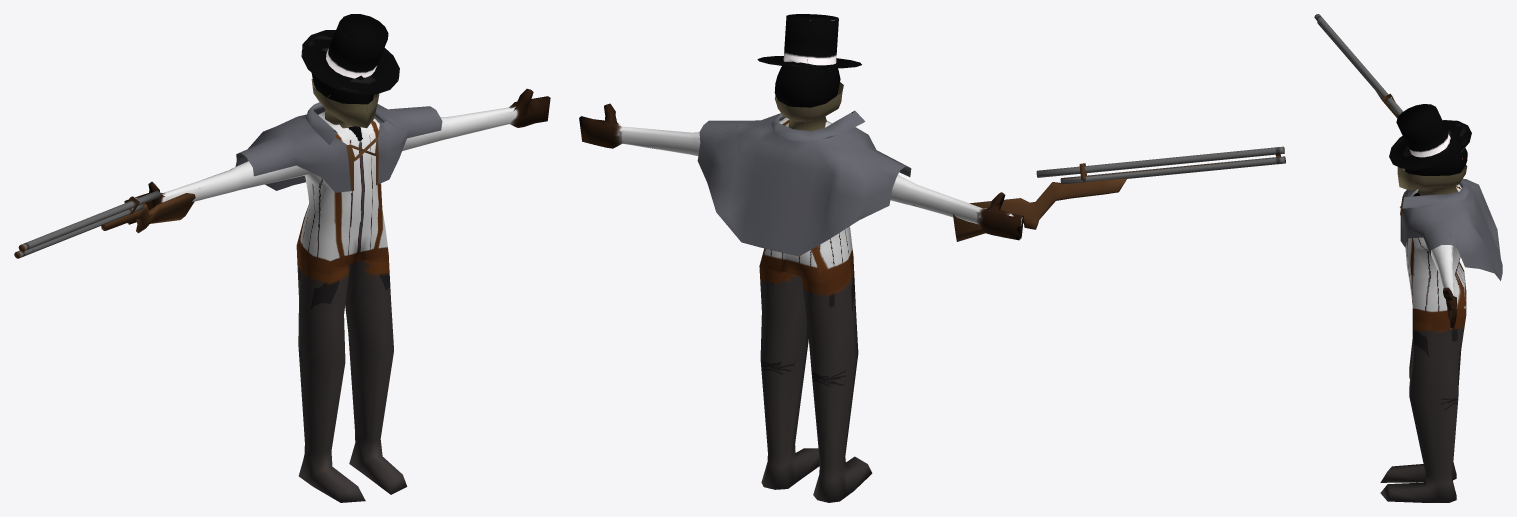
Rendered from Marksman.obj.
The picture shows the model from 3 angles, left to right: view 1: azimuth 30°, elevation 25°; view 2: azimuth 150°, elevation 25°; view 3: azimuth 270°, elevation 25°; orthographic projection. The views are drawn at different scales.
Parts seen in each view (by area): view 1: Body_Cube.007, Cloak_Cube.006, Hat_Cylinder.001, Rifle_Cube_Cube_Wood, Scarf_Cube.008; view 2: Body_Cube.007, Cloak_Cube.006, Rifle_Cube_Cube_Wood, Hat_Cylinder.001, Scarf_Cube.008; view 3: Body_Cube.007, Cloak_Cube.006, Hat_Cylinder.001, Scarf_Cube.008, Rifle_Cube_Cube_Wood.
Part boxes in pixels (box(x1,y1,x2,y2)): Body_Cube.007: box(124, 73, 550, 502); Cloak_Cube.006: box(235, 102, 442, 192); Hat_Cylinder.001: box(301, 14, 399, 94); Rifle_Cube_Cube_Wood: box(14, 191, 195, 258); Scarf_Cube.008: box(311, 79, 379, 128); Body_Cube.007: box(579, 61, 1023, 502); Cloak_Cube.006: box(697, 110, 911, 256); Rifle_Cube_Cube_Wood: box(953, 146, 1285, 241); Hat_Cylinder.001: box(757, 14, 861, 68); Scarf_Cube.008: box(775, 82, 843, 131); Body_Cube.007: box(1380, 134, 1467, 502); Cloak_Cube.006: box(1400, 179, 1502, 280); Hat_Cylinder.001: box(1389, 104, 1471, 169); Scarf_Cube.008: box(1397, 165, 1467, 195); Rifle_Cube_Cube_Wood: box(1314, 14, 1403, 117).
Size of the model in its own units: 8.11 by 5.78 by 2.59.
Materials: 5 (5 with a texture image).
